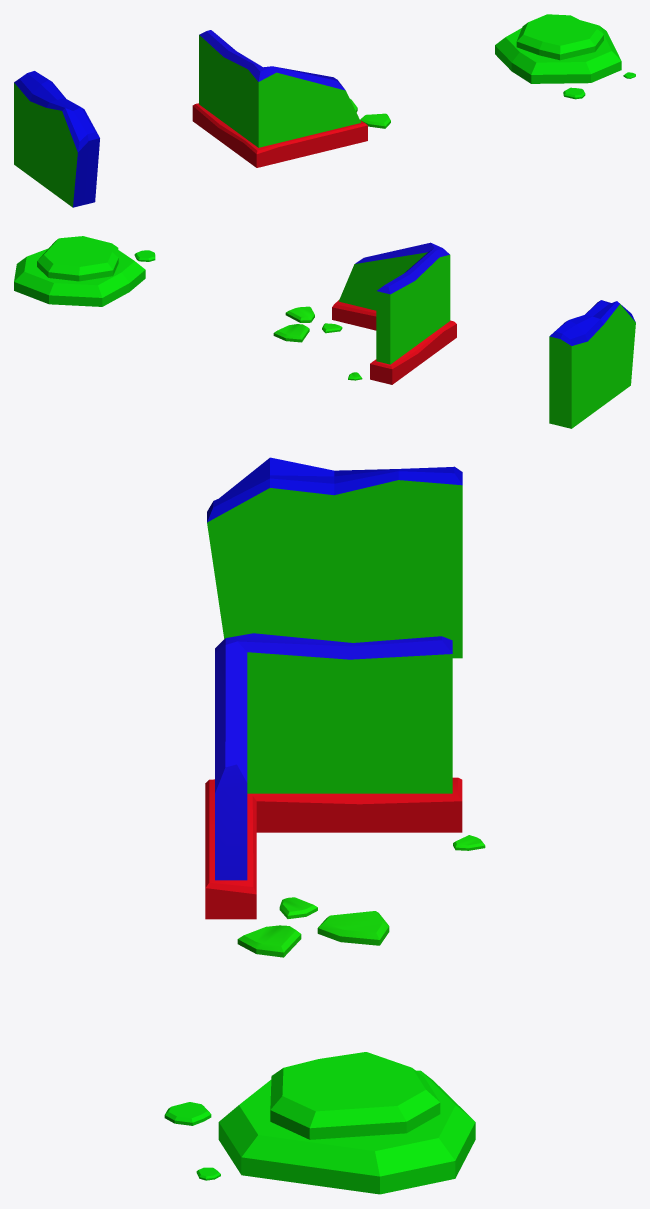
The model's file is environment_paintable.fbx.
3 renders of one model, top to bottom at view 1: azimuth 30°, elevation 25°; view 2: azimuth 150°, elevation 25°; view 3: azimuth 270°, elevation 25°, orthographic. The views are drawn at different scales.
Visible parts, largest first — view 1: broken_castle, broken_wall, rock; view 2: broken_castle, broken_wall, rock; view 3: broken_castle, broken_wall, rock.
Boxes of the visible parts, bbox=[...] form: broken_castle: bbox=[192, 30, 390, 167]; broken_wall: bbox=[14, 71, 99, 207]; rock: bbox=[495, 14, 635, 99]; broken_castle: bbox=[273, 242, 456, 384]; broken_wall: bbox=[549, 300, 635, 428]; rock: bbox=[14, 236, 155, 306]; broken_castle: bbox=[205, 633, 485, 957]; broken_wall: bbox=[207, 457, 462, 658]; rock: bbox=[164, 1052, 475, 1194].
Bounding box in the file's own units: 1029 × 160 × 250.
